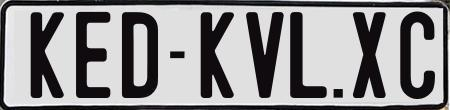C: (397, 8, 429, 96)
D: (122, 9, 163, 95)
E: (75, 9, 114, 97)
K: (31, 12, 67, 98), (199, 9, 232, 95)
L: (289, 10, 326, 96)
V: (246, 12, 287, 98)
X: (353, 11, 389, 99)
